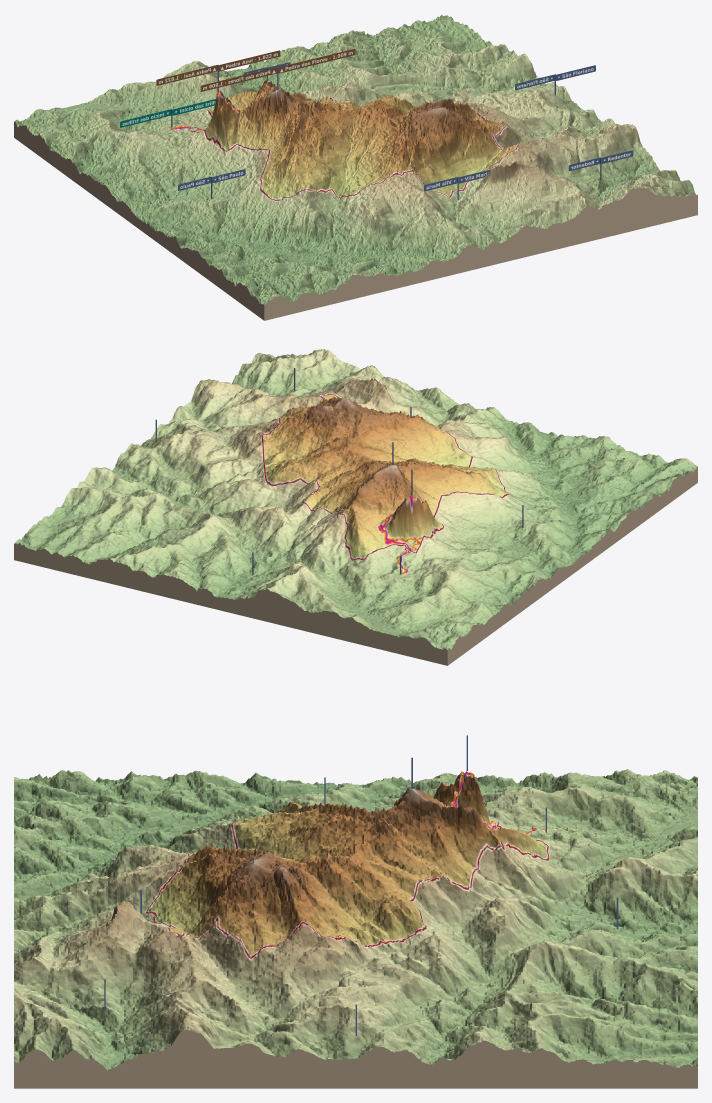
Rendered from pedra-azul.glb.
3 renders of one model, top to bottom at view 1: azimuth 30°, elevation 25°; view 2: azimuth 150°, elevation 25°; view 3: azimuth 270°, elevation 25°, orthographic. The views are drawn at different scales.
Parts seen in each view (by area): view 1: relevo, base, bandeiras; view 2: relevo, base; view 3: relevo, base.
Part boxes in pixels (<box>): relevo: <box>14,14,695,304</box>; base: <box>14,121,697,320</box>; bandeiras: <box>120,49,633,191</box>; relevo: <box>15,349,697,649</box>; base: <box>14,466,697,665</box>; relevo: <box>14,769,697,1070</box>; base: <box>14,1029,697,1088</box>.
Size of the model in its own units: 0.6318 by 0.1431 by 0.6.
Materials: 4 (2 with a texture image).
